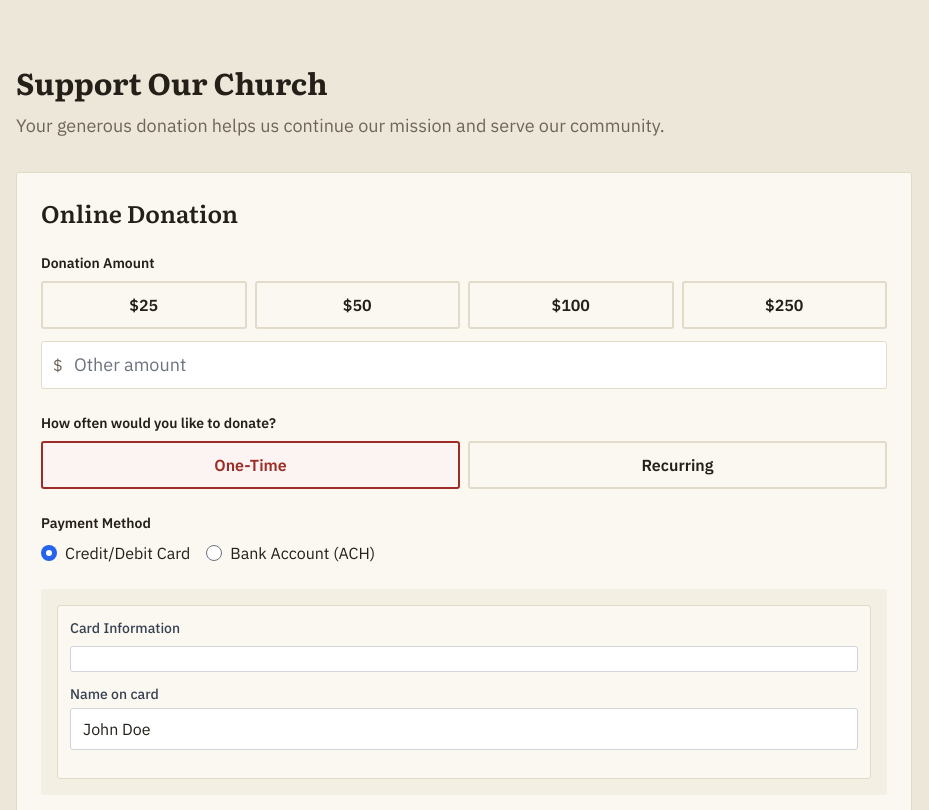
Test: DonatePage › the submit button names the gift rather than $0.00
Click the button "$100" at [571, 305], box left=468, top=281, right=674, bottom=329
(page scrolled)
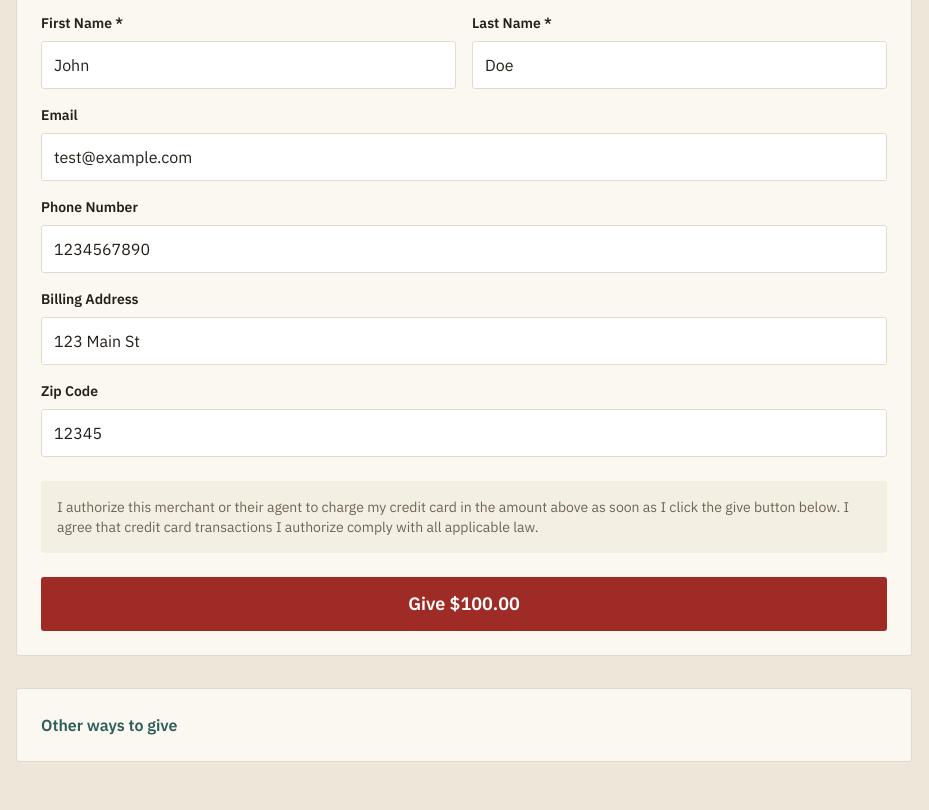
Expected: the button "Give $100.00" is shown, left=41, top=577, right=887, bottom=631
